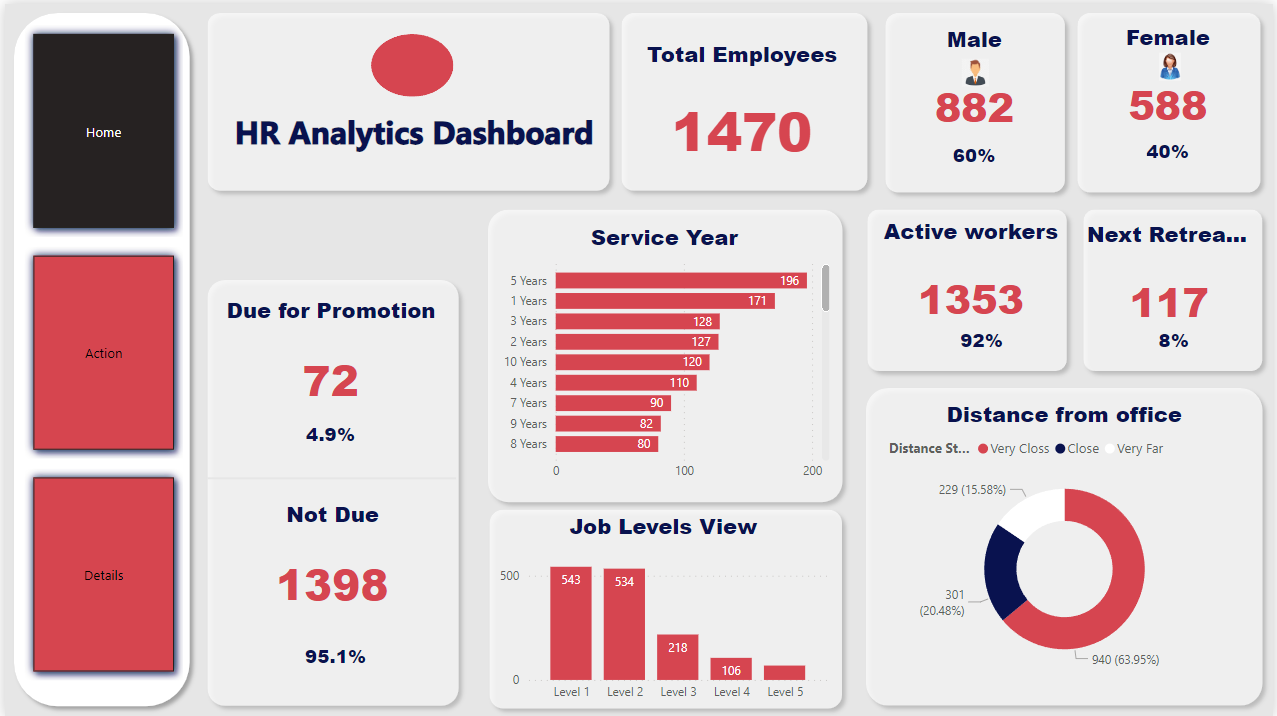

What the dashboard file says about the page in this screenshot:
{"tool":"powerbi","page":{"name":"Home ","canvas":[1280,720],"ordinal":0},"visuals":[{"type":"shape","box":[0,0,195.5,718.4],"z":0},{"type":"shape","box":[195.7,0,424.1,197.5],"z":1000},{"type":"shape","box":[614.3,0,266.4,197.5],"z":2000},{"type":"shape","box":[1074.6,0,203,199.3],"z":3000},{"type":"shape","box":[880.7,0,199.3,199.3],"z":4000},{"type":"shape","box":[195.5,270.2,271.8,448.2],"z":5000},{"type":"shape","box":[478.1,198.4,376.1,313.7],"z":6000},{"type":"shape","box":[480,500.8,374.2,219.2],"z":7000},{"type":"shape","box":[860.8,378.7,418.6,338.9],"z":8000},{"type":"shape","box":[861.5,198.7,219.3,181.2],"z":9000},{"type":"shape","box":[1080.8,198.7,198.7,181.2],"z":10000},{"type":"textbox","box":[212,101.5,402.3,67.1],"z":11000},{"type":"shape","box":[369.7,30.8,83.4,63.4],"z":12000},{"type":"cardVisual","title":"Total Employees","fields":{"Data":["All Measures.Total Emp"]},"box":[634.3,34.4,219.3,130.5],"z":13000},{"type":"cardVisual","title":"Male","fields":{"Data":["All Measures.Male"]},"box":[907.9,19.9,143.2,114.2],"z":14000},{"type":"cardVisual","title":"Male","fields":{"Data":["All Measures.% Male"]},"box":[907.9,114.2,143.2,61.6],"z":15000},{"type":"cardVisual","title":"Female","fields":{"Data":["All Measures.Female"]},"box":[1103.6,18.1,143.2,114.2],"z":16000},{"type":"cardVisual","title":"Male","fields":{"Data":["All Measures.% Female"]},"box":[1103.6,108.7,143.2,59.8],"z":17000},{"type":"image","box":[955,50.7,50.7,38.1],"z":18000},{"type":"image","box":[1154.4,43.5,45.3,38.1],"z":19000},{"type":"cardVisual","title":"Due for Promotion","fields":{"Data":["All Measures.Due for Promotion"]},"box":[205,294,249.5,130.3],"z":20000},{"type":"cardVisual","title":"Due for Promotion","fields":{"Data":["All Measures.% Due for Promotion"]},"box":[206.6,379.9,246.4,98.5],"z":21000},{"type":"cardVisual","title":"Not Due","fields":{"Data":["All Measures.Not Due"]},"box":[206.6,500.7,249.5,130.3],"z":22000},{"type":"cardVisual","title":"Due for Promotion","fields":{"Data":["All Measures.% Not Due"]},"box":[211.4,604,244.8,98.5],"z":23000},{"type":"shape","box":[205,472.1,251.1,12.7],"z":24000},{"type":"barChart","title":"Service Year","fields":{"Category":["HR Analytics Data.Service year"],"Y":["All Measures.Total Emp"]},"box":[493.2,219.2,343.9,270.2],"z":25000},{"type":"columnChart","title":"Job Levels View","fields":{"Category":["HR Analytics Data.Job Levels"],"Y":["All Measures.Total Emp"]},"box":[493.2,512.1,342,200.3],"z":26000},{"type":"cardVisual","title":"Active workers","fields":{"Data":["All Measures.On Services"]},"box":[871.3,214.4,209.2,114.9],"z":27000},{"type":"cardVisual","title":"Male","fields":{"Data":["All Measures.% On Services"]},"box":[915.5,300.4,143,60.4],"z":28000},{"type":"cardVisual","title":"Next Retreanch","fields":{"Data":["All Measures.Will be Retreanched"]},"box":[1087.2,216.2,176.4,114.4],"z":29000},{"type":"cardVisual","title":"Male","fields":{"Data":["All Measures.% Will be Retreanched"]},"box":[1109.4,300.4,143,60.4],"z":30000},{"type":"donutChart","title":"Distance from office","fields":{"Category":["HR Analytics Data.Distance Status"],"Y":["All Measures.Total Emp"]},"box":[888.5,398.9,364,284.5],"z":31000},{"type":"pageNavigator","box":[19.1,20.7,160.5,662.8],"z":32000}]}

Visuals, with their boxes in screenshot pixels (x1, y1, x2, y2), scaled from the page's 1280x720 canvas onto the 1277x716 screenshot:
shape: <bbox>0, 0, 195, 714</bbox>
shape: <bbox>195, 0, 618, 196</bbox>
shape: <bbox>613, 0, 879, 196</bbox>
shape: <bbox>1072, 0, 1275, 198</bbox>
shape: <bbox>879, 0, 1077, 198</bbox>
shape: <bbox>195, 269, 466, 714</bbox>
shape: <bbox>477, 197, 852, 509</bbox>
shape: <bbox>479, 498, 852, 715</bbox>
shape: <bbox>859, 377, 1276, 714</bbox>
shape: <bbox>859, 198, 1078, 378</bbox>
shape: <bbox>1078, 198, 1276, 378</bbox>
textbox: <bbox>212, 101, 613, 168</bbox>
shape: <bbox>369, 31, 452, 94</bbox>
"Total Employees" cardVisual: <bbox>633, 34, 852, 164</bbox>
"Male" cardVisual: <bbox>906, 20, 1049, 133</bbox>
"Male" cardVisual: <bbox>906, 114, 1049, 175</bbox>
"Female" cardVisual: <bbox>1101, 18, 1244, 132</bbox>
"Male" cardVisual: <bbox>1101, 108, 1244, 168</bbox>
image: <bbox>953, 50, 1003, 88</bbox>
image: <bbox>1152, 43, 1197, 81</bbox>
"Due for Promotion" cardVisual: <bbox>205, 292, 453, 422</bbox>
"Due for Promotion" cardVisual: <bbox>206, 378, 452, 476</bbox>
"Not Due" cardVisual: <bbox>206, 498, 455, 627</bbox>
"Due for Promotion" cardVisual: <bbox>211, 601, 455, 699</bbox>
shape: <bbox>205, 469, 455, 482</bbox>
"Service Year" barChart: <bbox>492, 218, 835, 487</bbox>
"Job Levels View" columnChart: <bbox>492, 509, 833, 708</bbox>
"Active workers" cardVisual: <bbox>869, 213, 1078, 327</bbox>
"Male" cardVisual: <bbox>913, 299, 1056, 359</bbox>
"Next Retreanch" cardVisual: <bbox>1085, 215, 1261, 329</bbox>
"Male" cardVisual: <bbox>1107, 299, 1249, 359</bbox>
"Distance from office" donutChart: <bbox>886, 397, 1250, 680</bbox>
pageNavigator: <bbox>19, 21, 179, 680</bbox>
